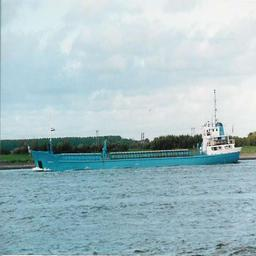Ship: (24, 133, 245, 170)
